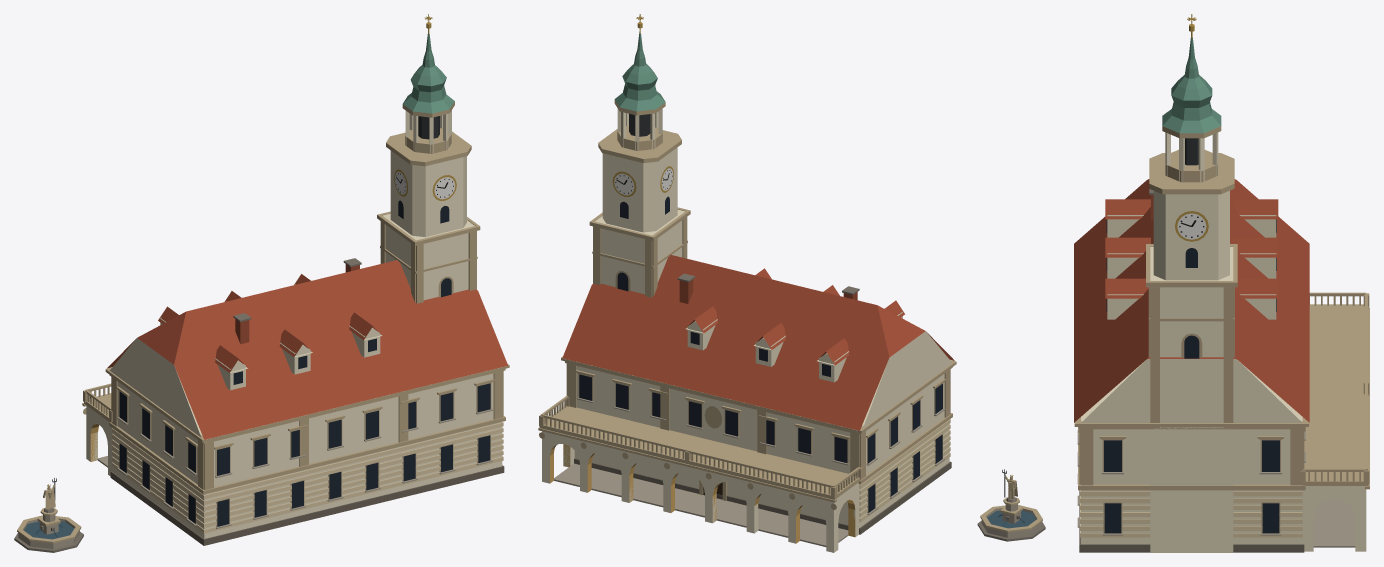
The model's file is Rynek.fbx.
3 views of the same model, side by side, from view 1: azimuth 30°, elevation 25°; view 2: azimuth 150°, elevation 25°; view 3: azimuth 270°, elevation 25° (orthographic). The views are drawn at different scales.
Visible parts, largest first — view 1: Ratusz, Ratusz_Detal_NOCOL, Ratusz_Wieza, Fontanna_Neptun, Ratusz_Podcienia; view 2: Ratusz, Ratusz_Podcienia, Ratusz_Detal_NOCOL, Ratusz_Wieza, Fontanna_Neptun; view 3: Ratusz, Ratusz_Wieza, Ratusz_Detal_NOCOL, Ratusz_Podcienia.
Part boxes in pixels (x1,y1,x2,y2): Ratusz: [107, 260, 508, 545]; Ratusz_Detal_NOCOL: [82, 14, 509, 533]; Ratusz_Wieza: [383, 34, 474, 300]; Fontanna_Neptun: [14, 507, 83, 552]; Ratusz_Podcienia: [84, 393, 112, 476]; Ratusz: [562, 254, 954, 534]; Ratusz_Podcienia: [539, 406, 861, 552]; Ratusz_Detal_NOCOL: [538, 14, 956, 522]; Ratusz_Wieza: [595, 33, 685, 294]; Fontanna_Neptun: [977, 497, 1045, 541]; Ratusz: [1074, 179, 1309, 552]; Ratusz_Wieza: [1149, 38, 1234, 552]; Ratusz_Detal_NOCOL: [1074, 14, 1369, 537]; Ratusz_Podcienia: [1302, 304, 1368, 551].
Bounding box in the file's own units: 44.32 × 41.5 × 21.35.
